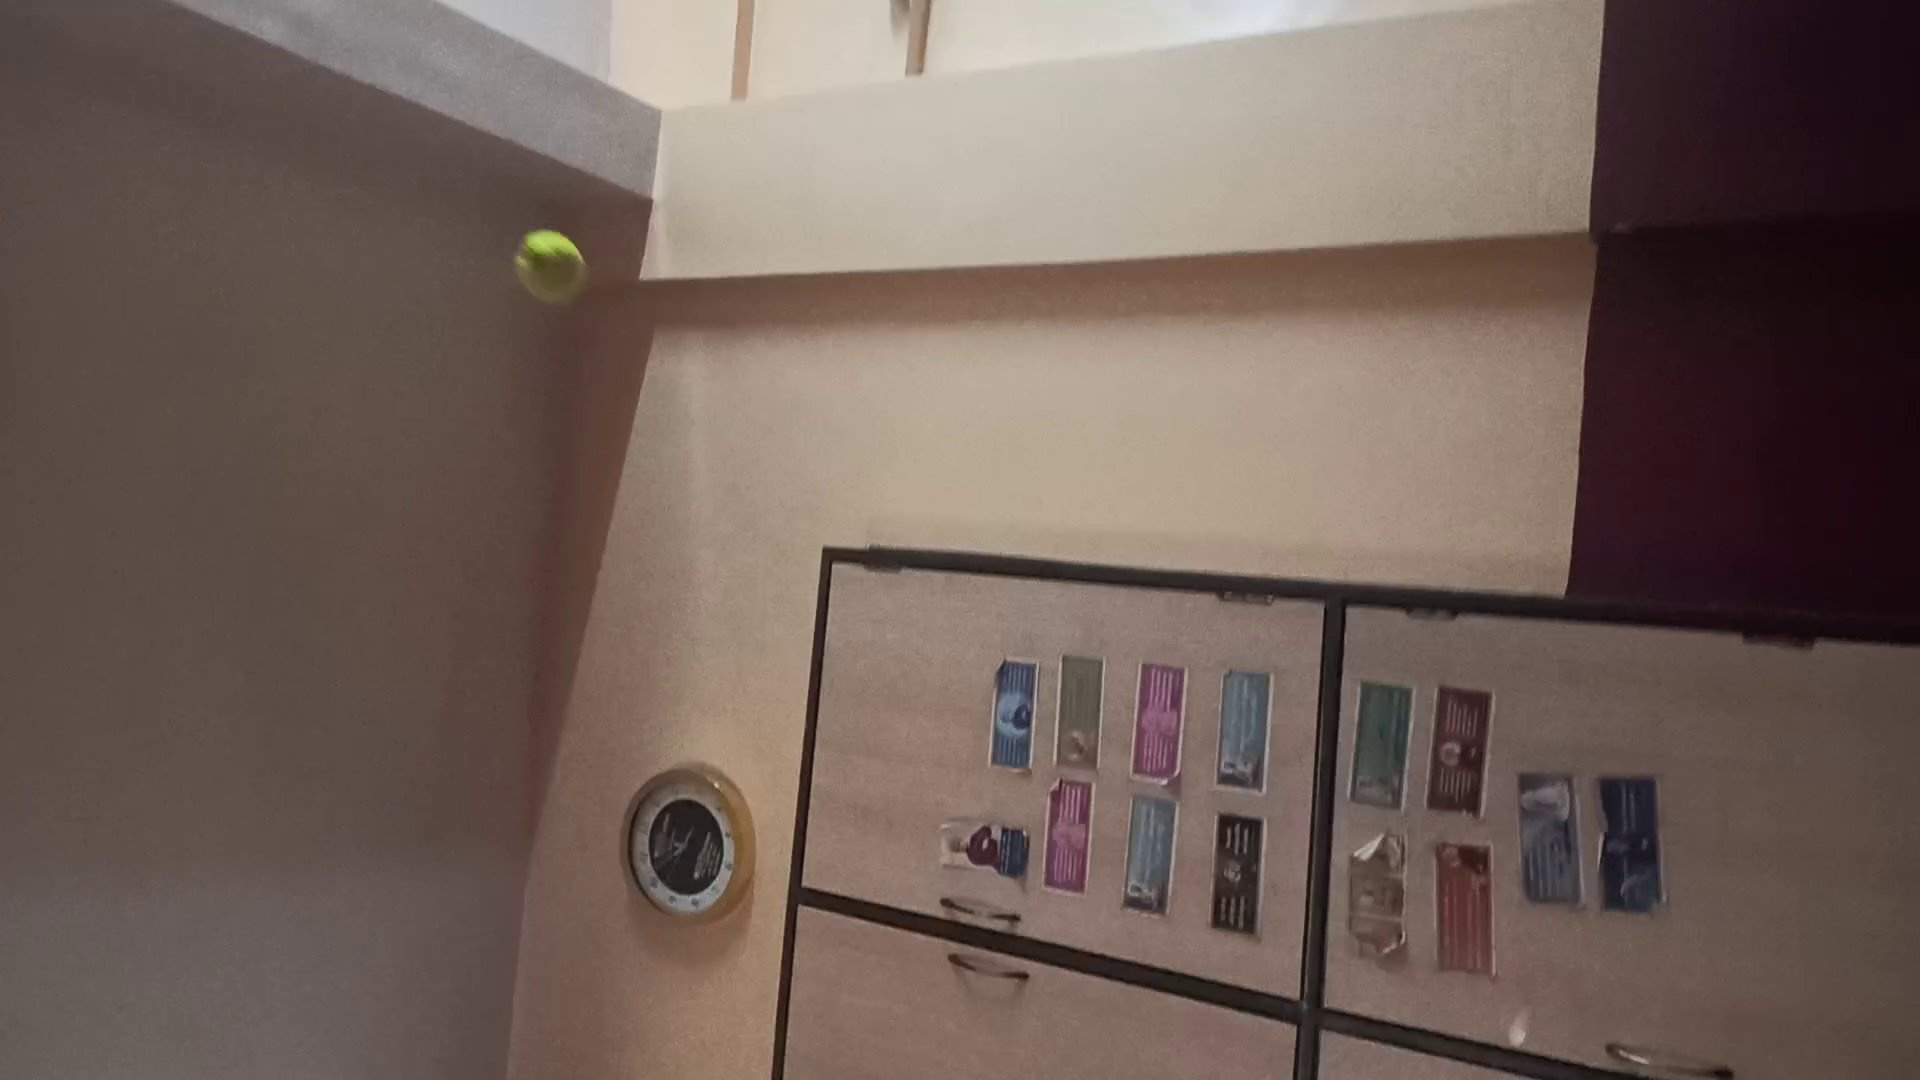Tennis-Ball: (514, 229, 585, 302)
